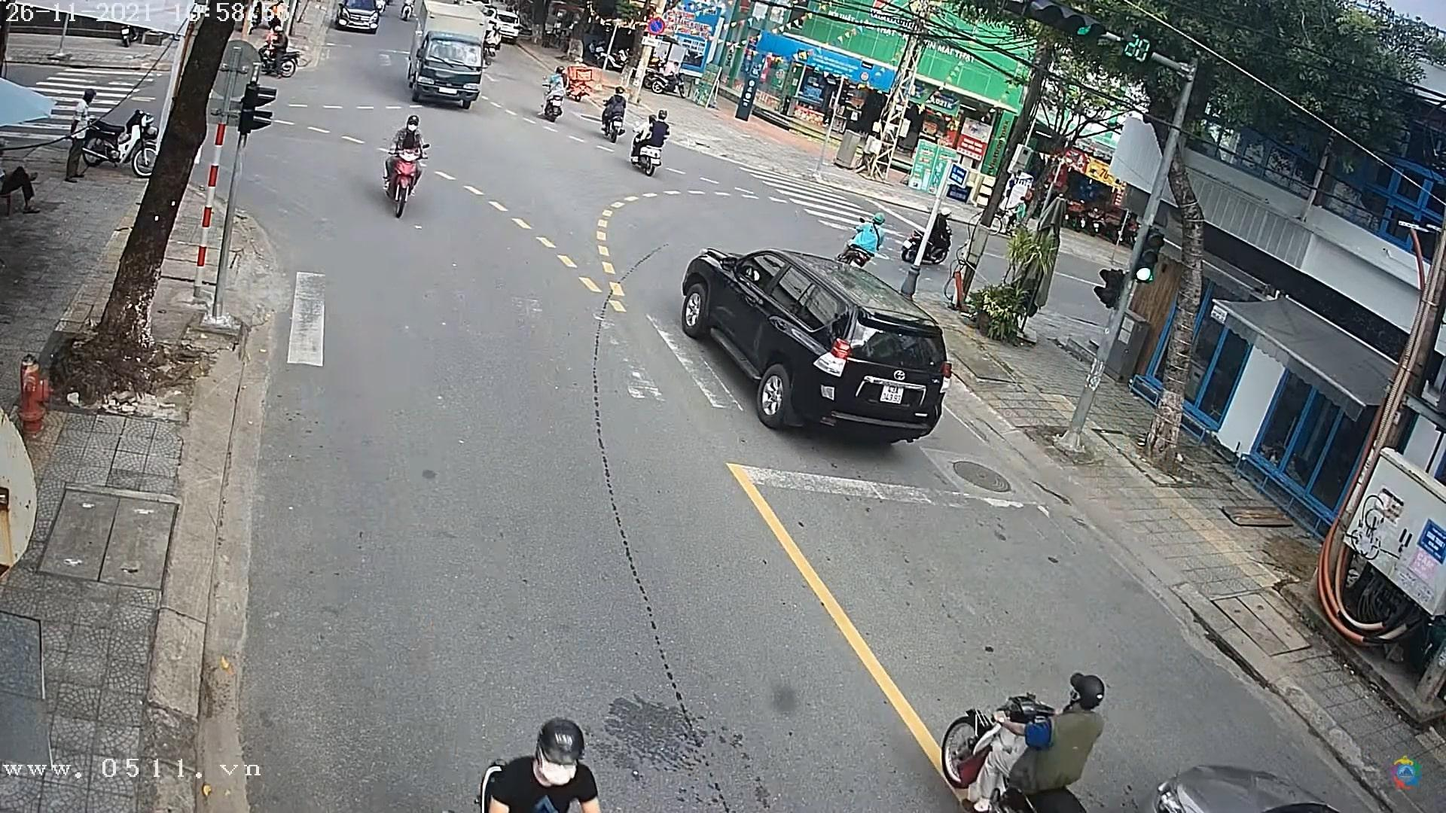bus: (679, 251, 953, 445)
car: (337, 1, 383, 32)
motorbike: (381, 149, 426, 219), (635, 139, 669, 178), (599, 104, 631, 145), (547, 80, 571, 123)
truck: (402, 8, 491, 110)
